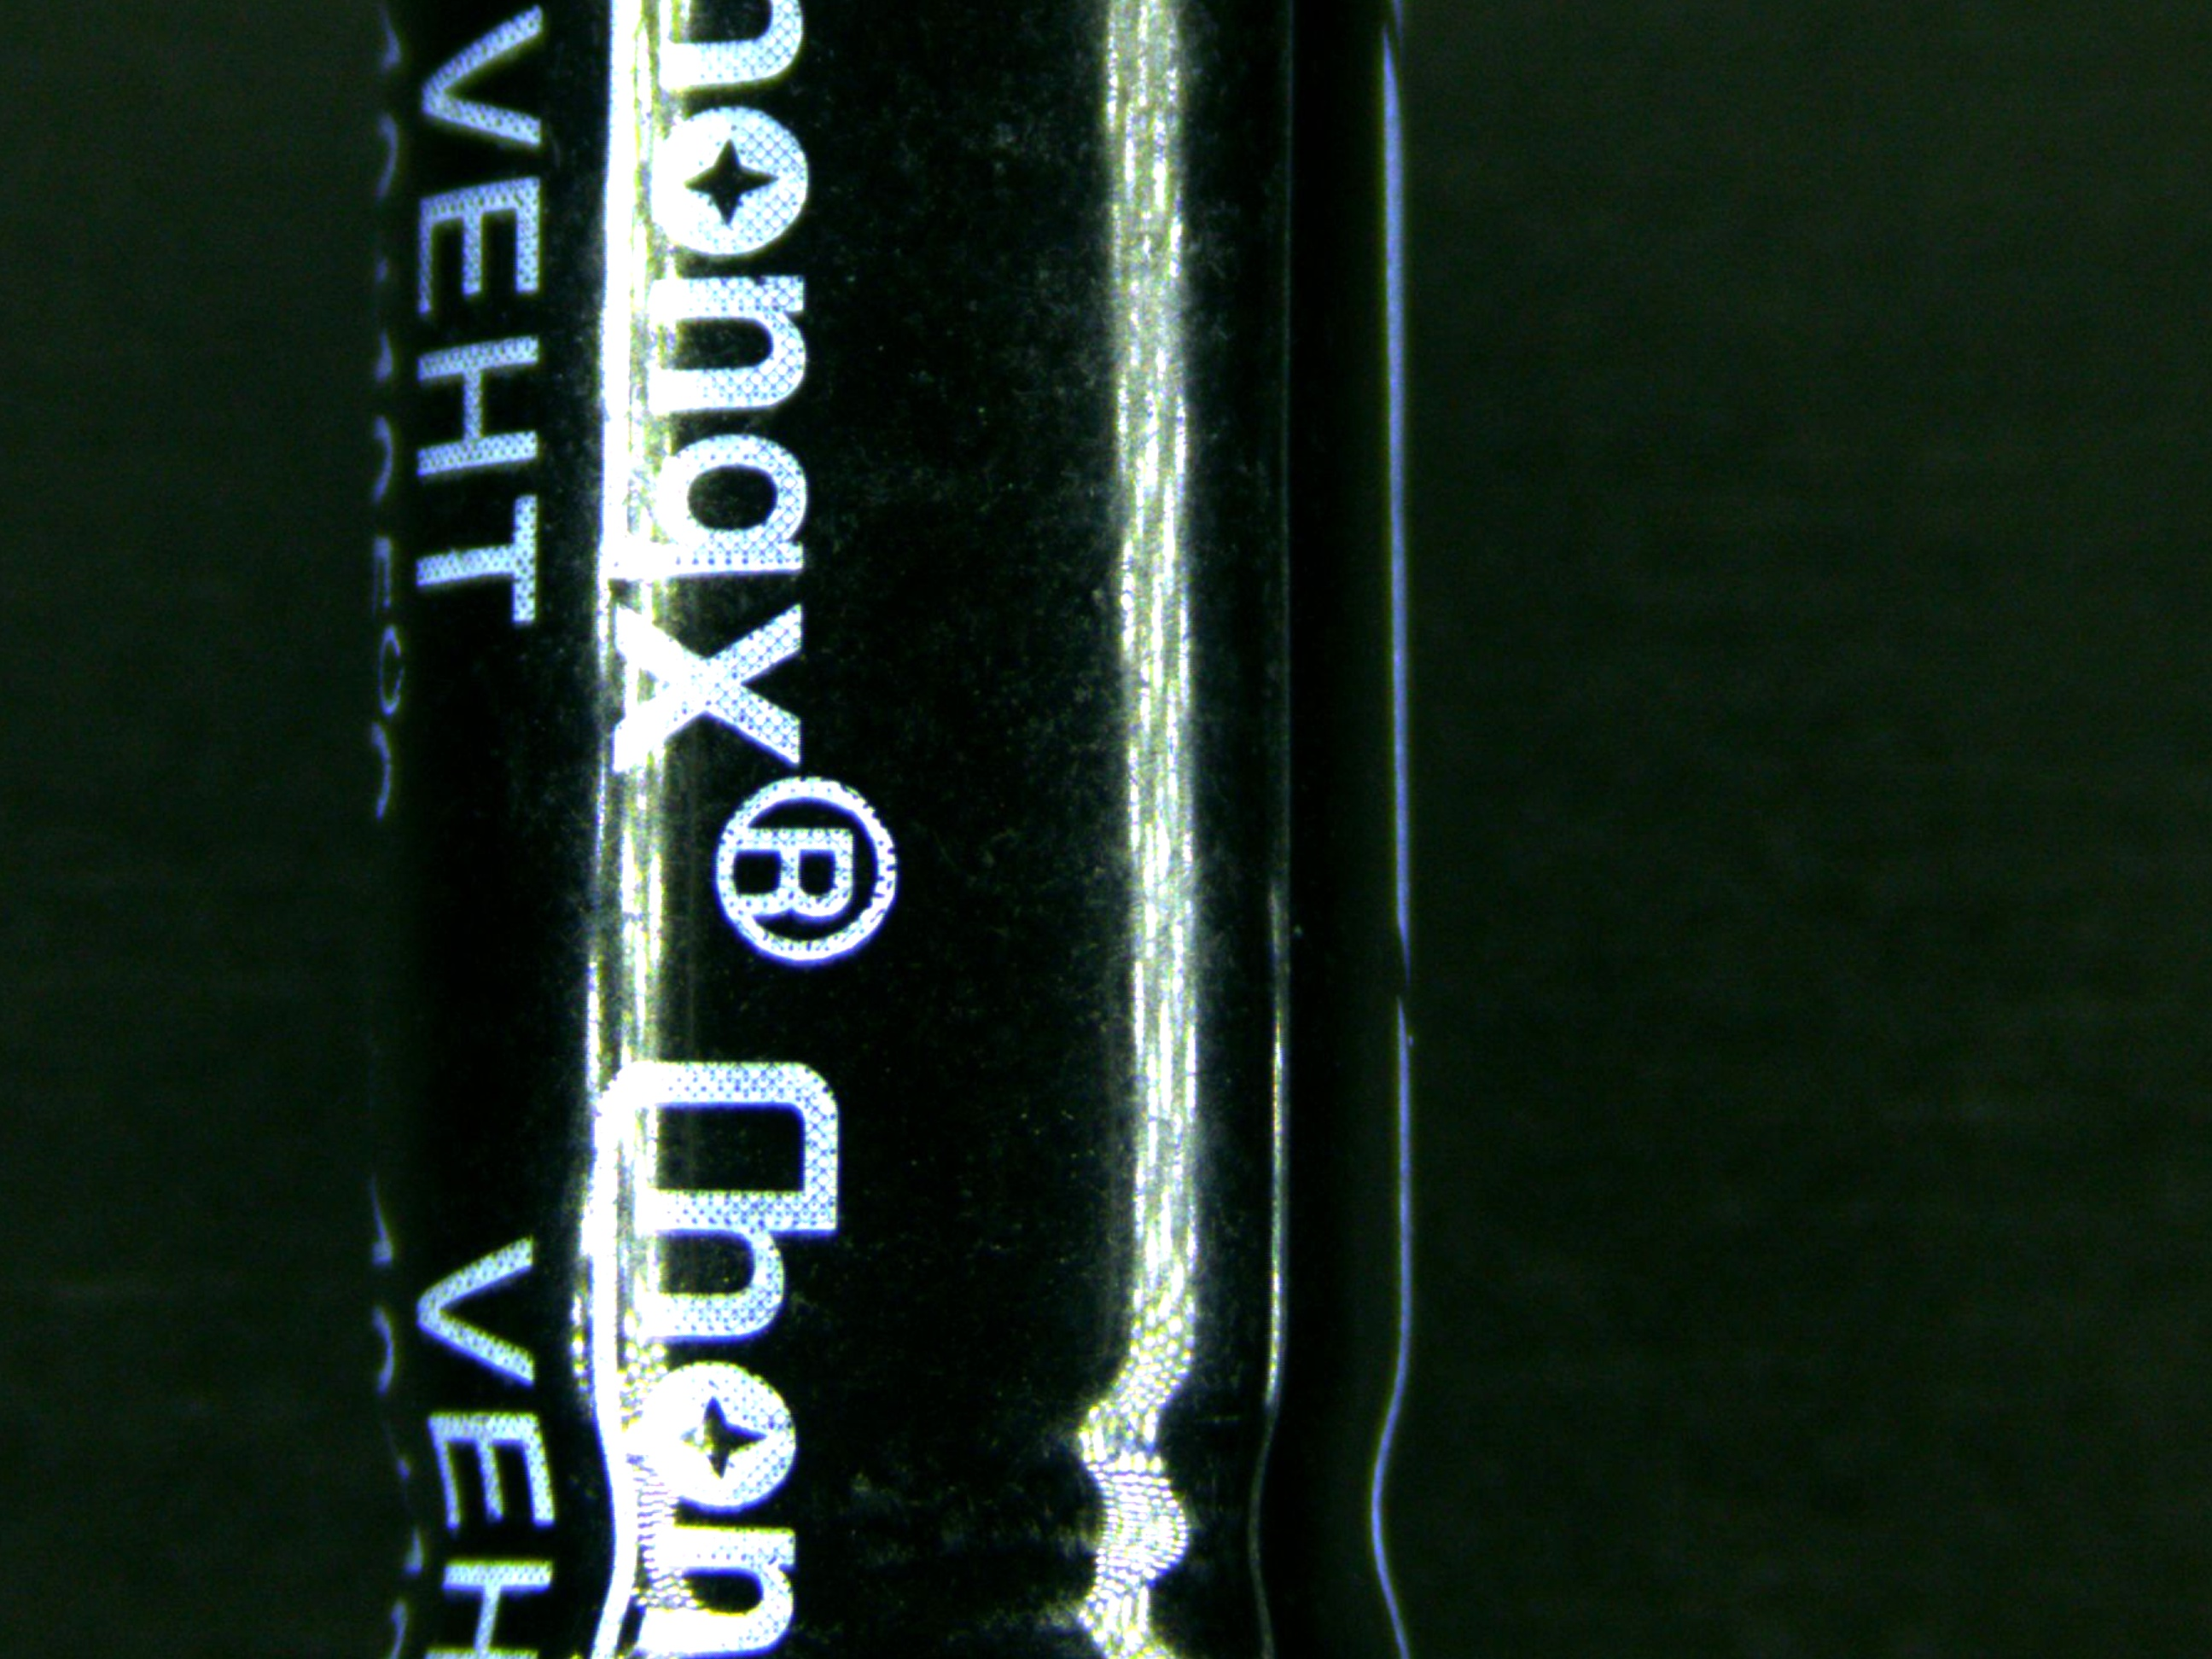c3: (331, 0, 1440, 1659)
